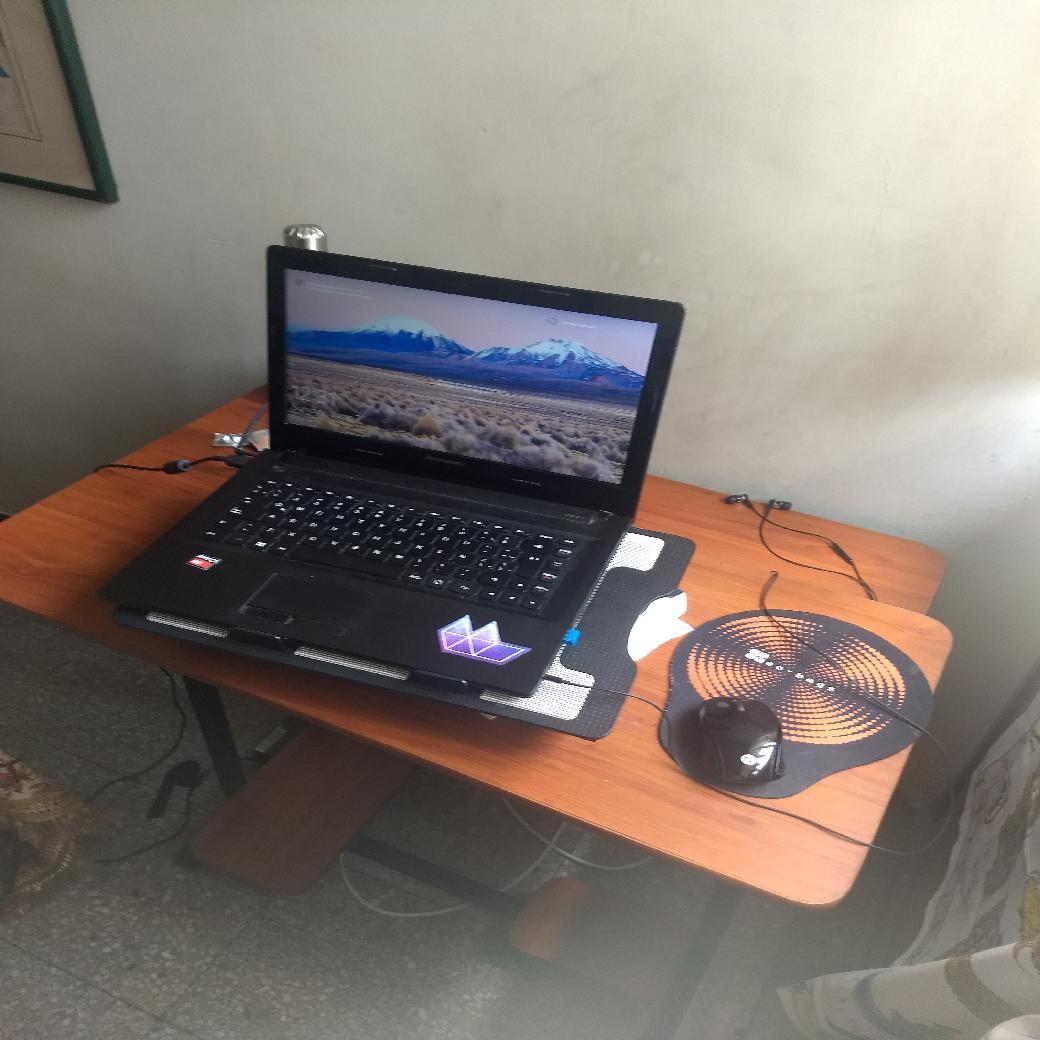laptop: (104, 243, 686, 737)
